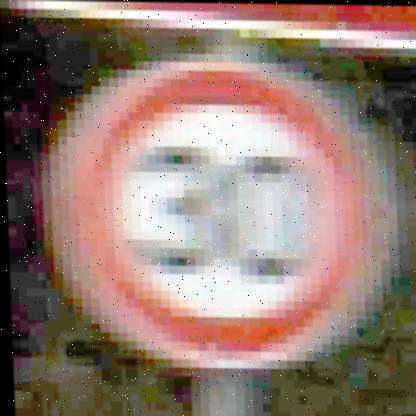Speed Limit -30-: (46, 56, 394, 368)
